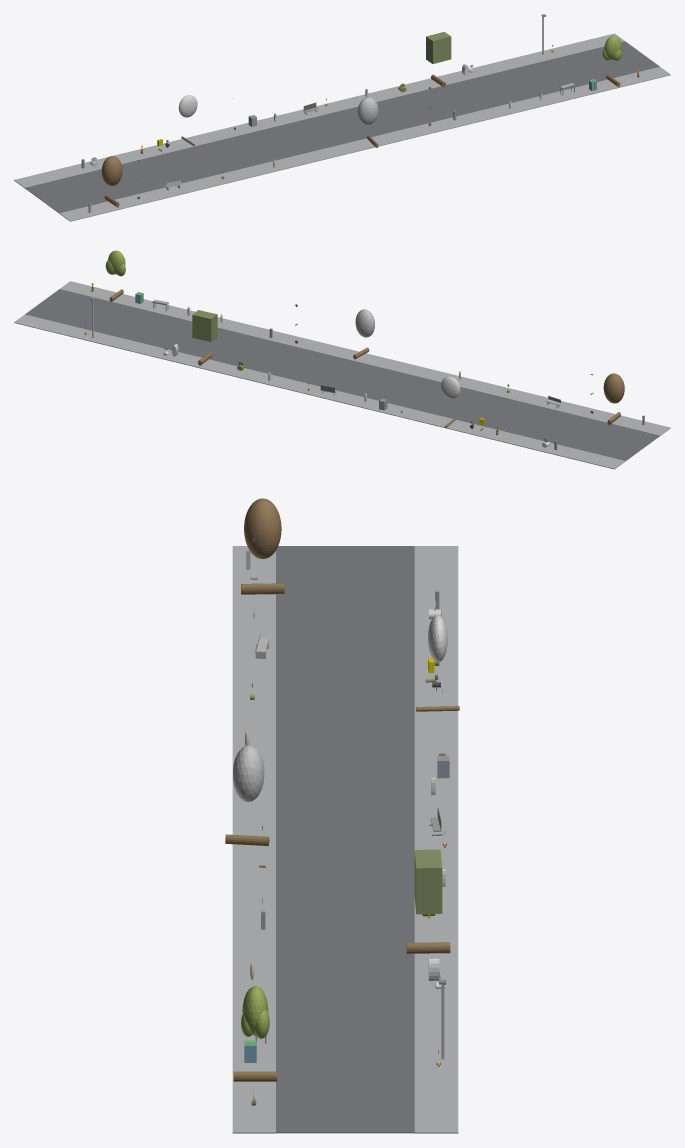
3 views of the same model, one above another, from view 1: azimuth 30°, elevation 25°; view 2: azimuth 150°, elevation 25°; view 3: azimuth 270°, elevation 25° (orthographic). The views are drawn at different scales.
Visible parts, largest first — view 1: road_slab, sidewalk_left, sidewalk_right, inst_0015, inst_0012, inst_0014, inst_0016, inst_0013; view 2: road_slab, sidewalk_right, sidewalk_left, inst_0015, inst_0012, inst_0014, inst_0016, inst_0013; view 3: road_slab, sidewalk_right, sidewalk_left, inst_0015, inst_0012, inst_0014, inst_0016, inst_0013.
Boxes of the visible parts, x1,y1,x2,y2 form: road_slab: (25, 41, 659, 213); sidewalk_left: (59, 67, 670, 221); sidewalk_right: (14, 33, 624, 188); inst_0015: (426, 31, 451, 87); inst_0012: (101, 156, 122, 207); inst_0014: (357, 97, 378, 147); inst_0016: (602, 35, 621, 86); inst_0013: (178, 95, 197, 145); road_slab: (25, 289, 659, 461); sidewalk_right: (14, 314, 625, 469); sidewalk_left: (60, 281, 670, 435); inst_0015: (192, 310, 217, 365); inst_0012: (603, 373, 624, 425); inst_0014: (353, 309, 374, 359); inst_0016: (105, 250, 125, 301); inst_0013: (440, 376, 460, 427); road_slab: (276, 546, 414, 1133); sidewalk_right: (414, 546, 458, 1133); sidewalk_left: (232, 546, 275, 1133); inst_0015: (406, 849, 450, 953); inst_0012: (241, 498, 284, 594); inst_0014: (225, 745, 269, 845); inst_0016: (233, 986, 276, 1081); inst_0013: (416, 615, 459, 711).
Size of the model in its own units: 80 by 6.08 by 13.51.
